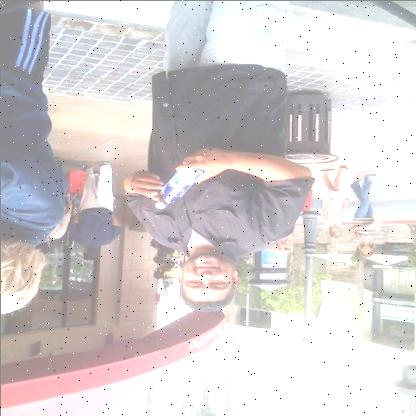Plastic Bottle: (154, 168, 203, 208)
